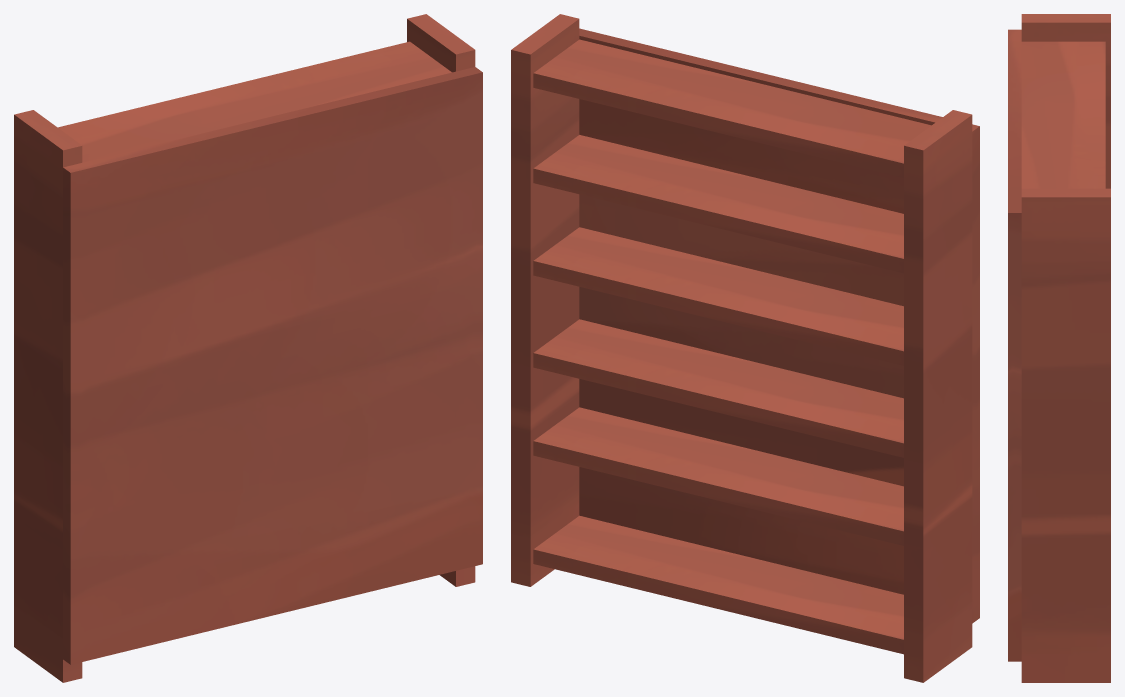
Rendered from bookshelf.fbx.
3 renders of one model, left to right at view 1: azimuth 30°, elevation 25°; view 2: azimuth 150°, elevation 25°; view 3: azimuth 270°, elevation 25°, orthographic. The views are drawn at different scales.
Visible parts, largest first — view 1: bookshelf; view 2: bookshelf; view 3: bookshelf.
Part boxes in pixels (box(x1,y1,x2,y2)): bookshelf: box(14, 14, 482, 682); bookshelf: box(511, 14, 979, 682); bookshelf: box(1008, 14, 1110, 682).
Size of the model in its own units: 1.7 by 2.1 by 0.4033.
